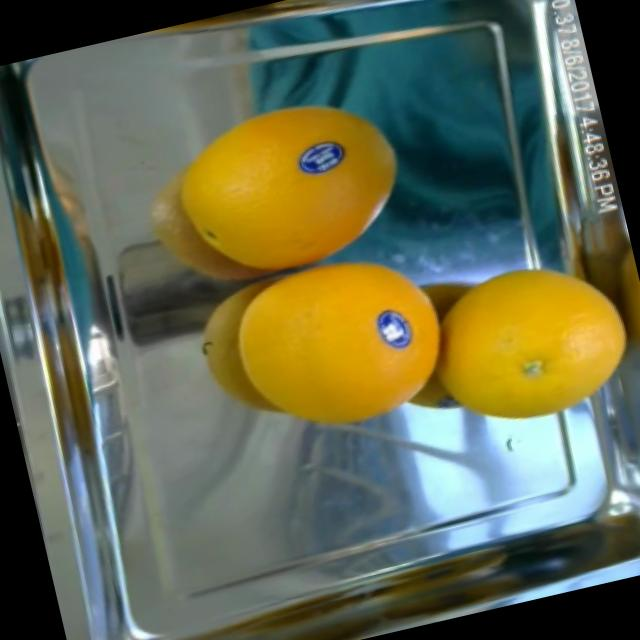Fruit: (410, 228, 640, 449), (283, 128, 356, 188), (367, 302, 422, 358)
